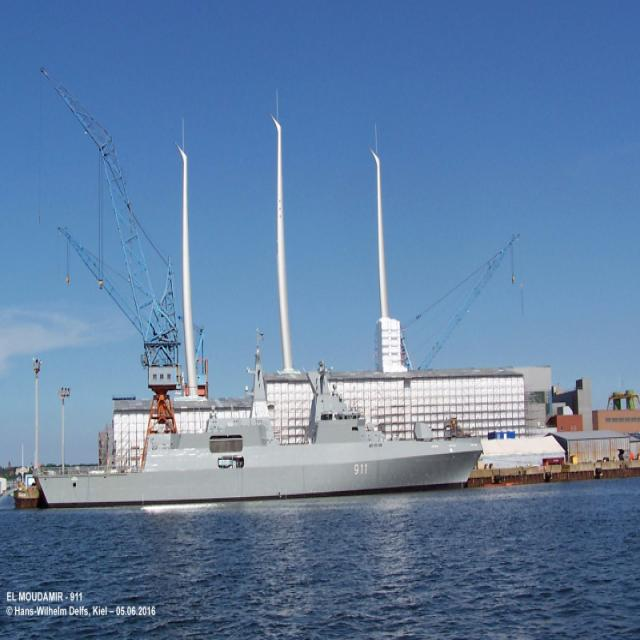Fragata: (24, 318, 485, 515)
